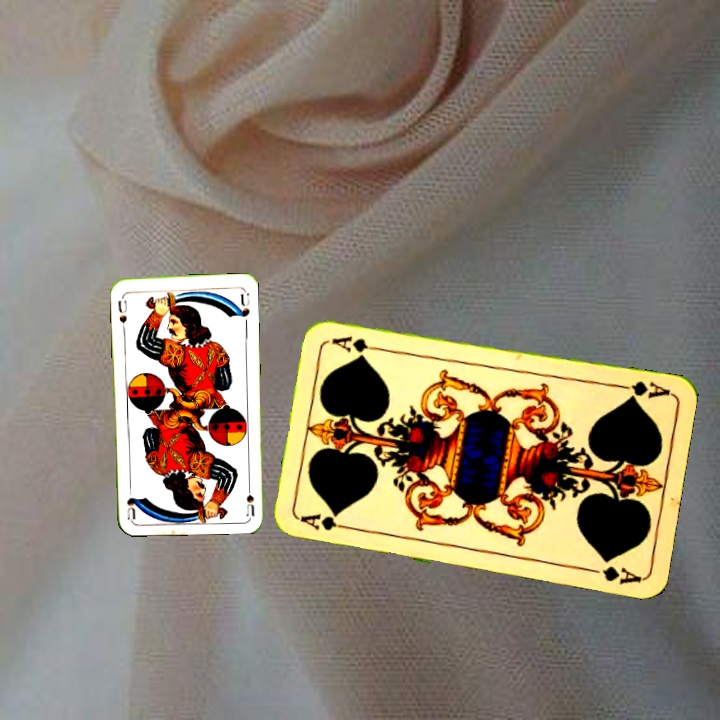GA: (613, 376, 672, 402), (297, 510, 356, 533)
SU: (114, 291, 129, 332), (242, 476, 257, 517)
